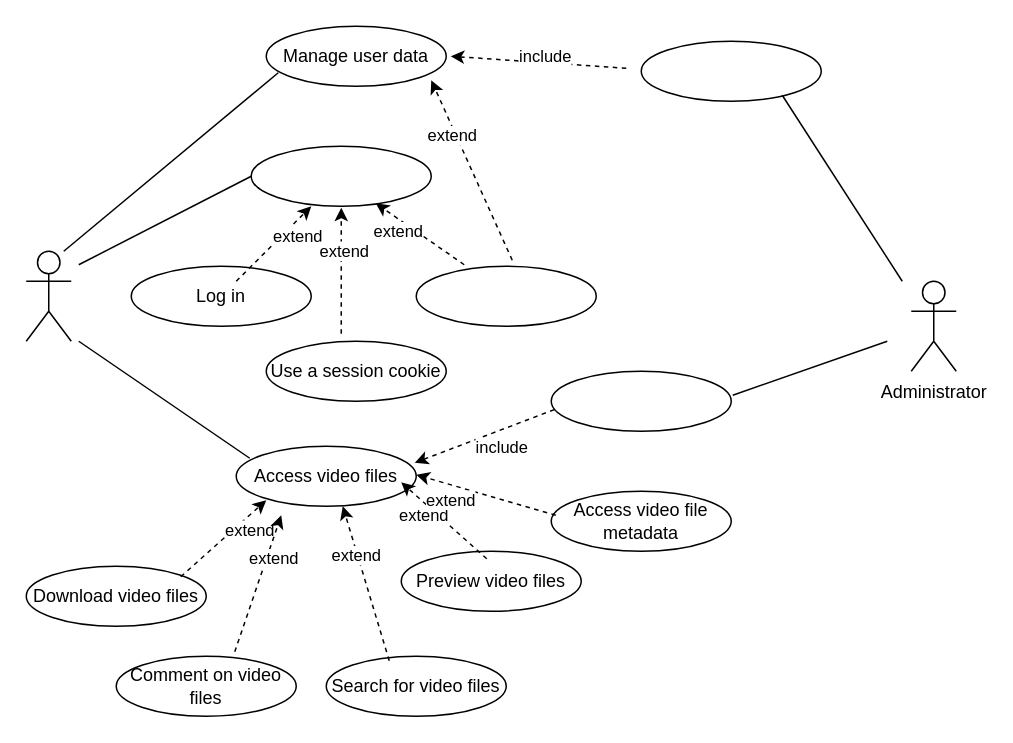
Some shapes in this 1013 by 743 pixel diagram are drawn without their labels. The shapes that lost their labels are listed below. From the top down, each one's centre as x and y in pixels, then its label:
(730,70): Manage all user data
(340,175): Get authenticated
(48,295): User
(505,295): Register
(640,400): Manage video files
